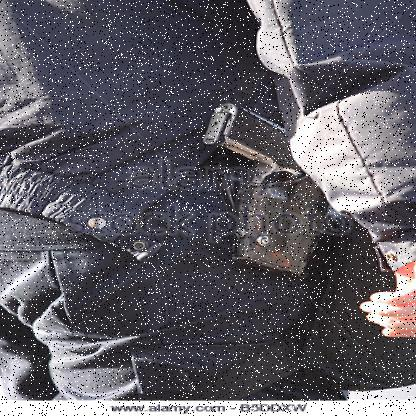pistol: (198, 99, 336, 278)
